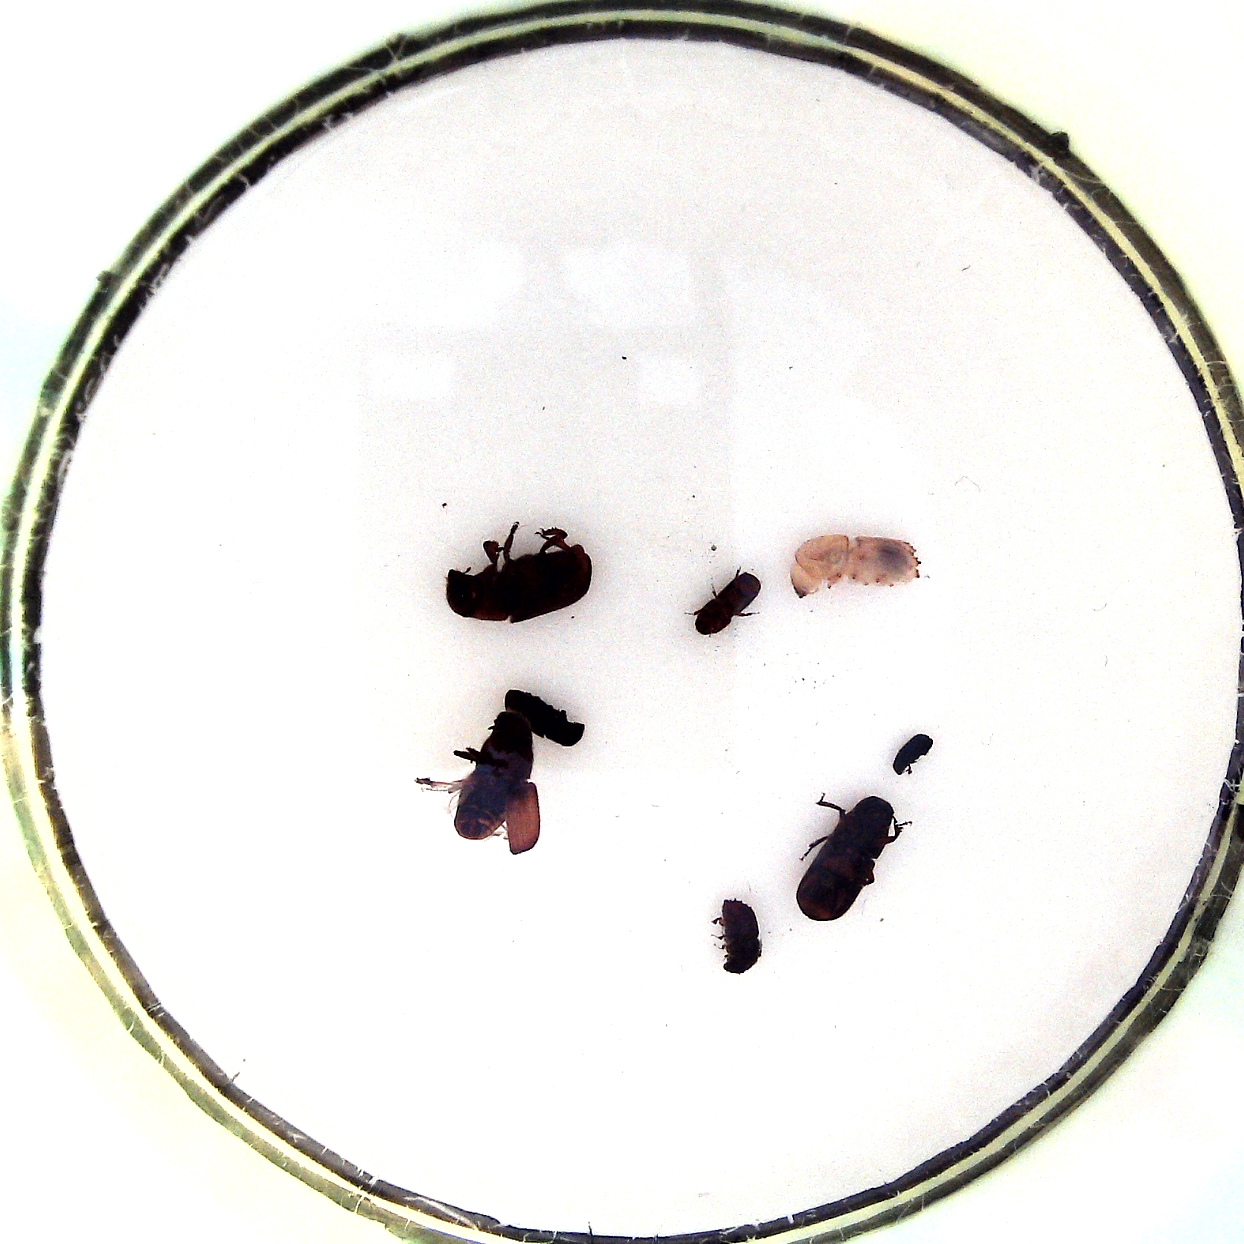Boerner: (784, 532, 928, 600)
Leconte: (420, 714, 538, 856), (787, 792, 907, 925), (443, 523, 595, 625)
Linnaeus: (710, 897, 766, 976)
acuminatus: (690, 568, 764, 636)
armandi: (507, 691, 587, 748)
coleoptera: (890, 727, 933, 777)
